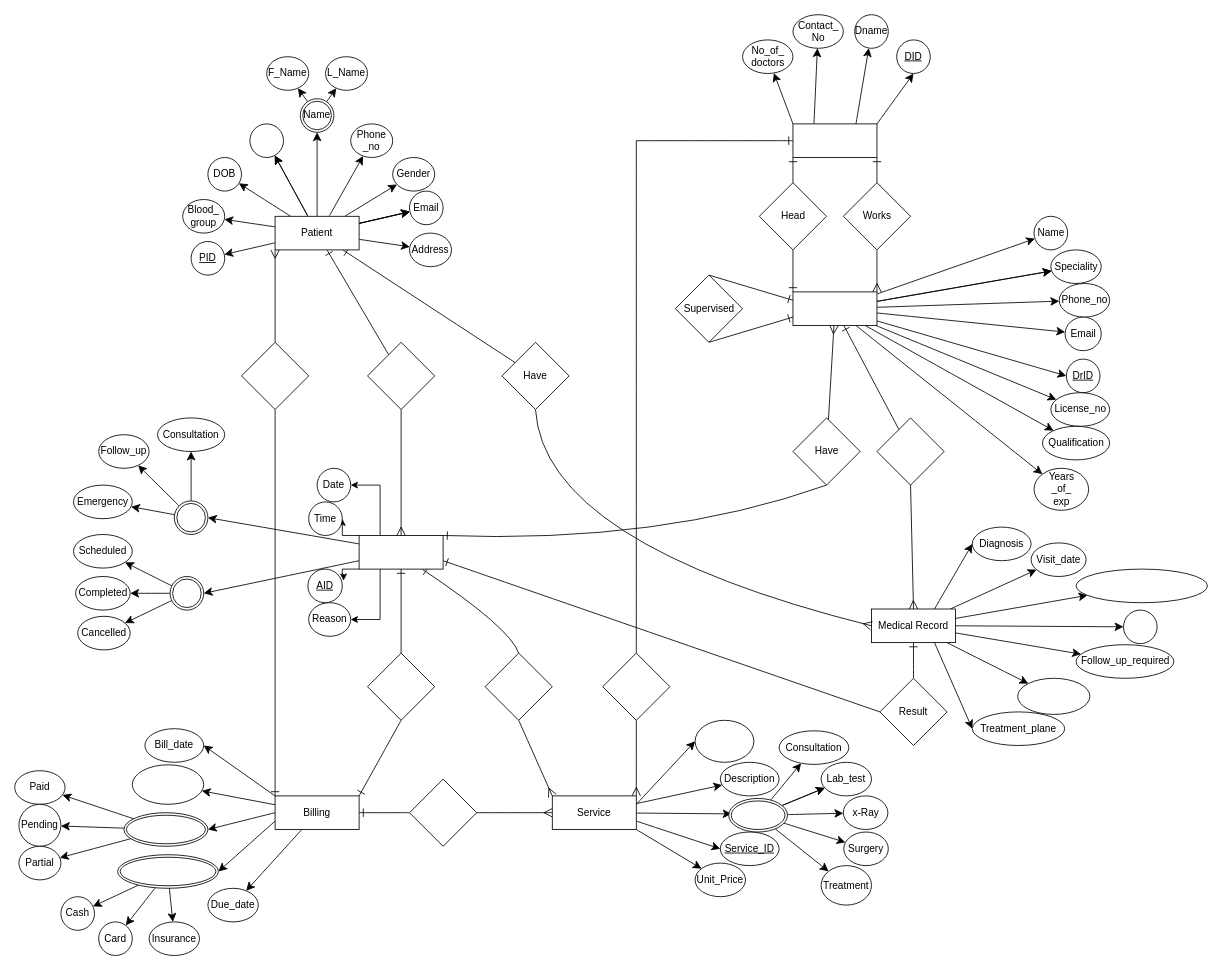
This 1222x970 diagram has some shape labels left out. The centre of each missing label's shape, as x and y in pixels:
"Age" belongs at point 266,140.
"Appointment" belongs at point 400,552.
"Calculate" belongs at point 443,812.
"Create" belongs at point 910,451.
"Department" belongs at point 834,140.
"Doctor" belongs at point 834,308.
"Doctor_notes" belongs at point 1053,695.
"Include" belongs at point 518,686.
"MID" belongs at point 1140,626.
"Offers" belongs at point 636,686.
"Payment_method" belongs at point 167,871.
"Payment_status" belongs at point 165,829.
"Prescribed_medications" belongs at point 1141,585.
"Receive" belongs at point 275,375.
"Related" belongs at point 401,686.
"Schedule" belongs at point 401,375.
"Ser_name" belongs at point 724,740.
"Ser_Type" belongs at point 758,815.
"Status" belongs at point 186,593.
"Total_amount" belongs at point 167,784.
"Type" belongs at point 190,517.
